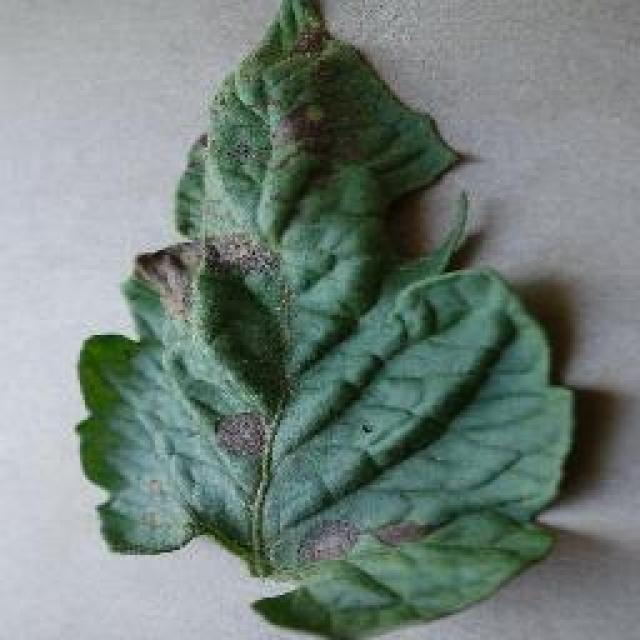Early Blight: (78, 2, 582, 640)
